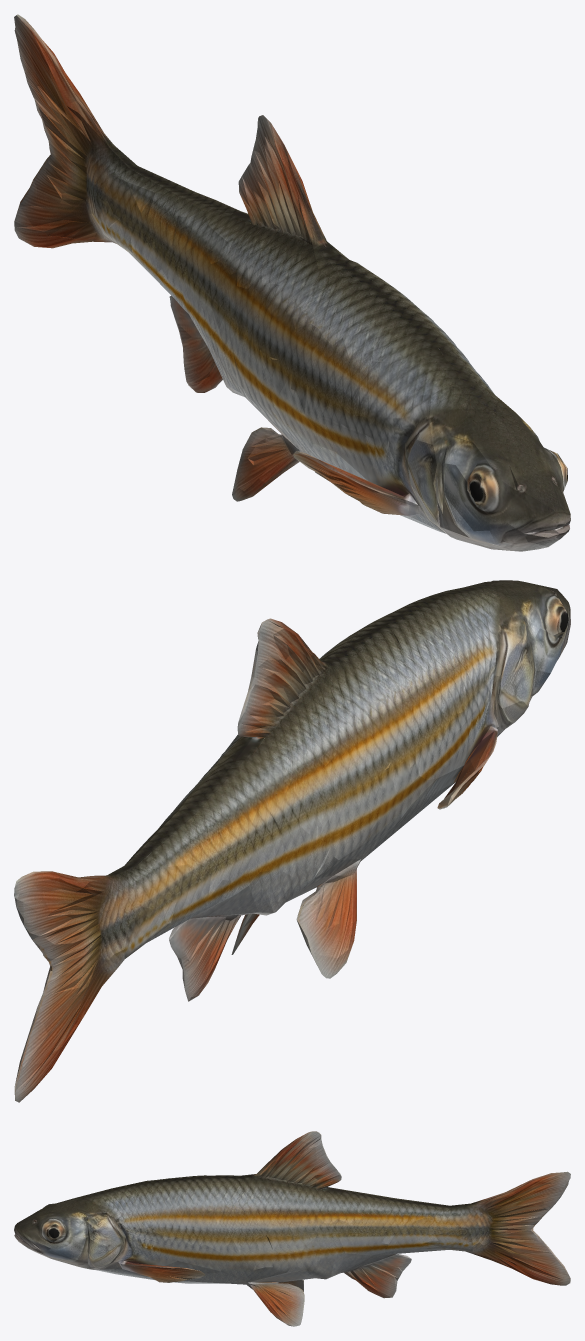
Rendered from Meshy_AI_A_single_realistic_Pa_1117030157_texture.glb.
3 views of the same model, one above another, from view 1: azimuth 30°, elevation 25°; view 2: azimuth 150°, elevation 25°; view 3: azimuth 270°, elevation 25° (orthographic). The views are drawn at different scales.
Visible parts, largest first — view 1: output_unwrapped; view 2: output_unwrapped; view 3: output_unwrapped.
Boxes of the visible parts, x1,y1,x2,y2 form: output_unwrapped: (14,14,570,551); output_unwrapped: (14,580,570,1102); output_unwrapped: (14,1131,570,1326).
Size of the model in its own units: 0.3232 by 0.691 by 1.9.
Materials: 1 (1 with a texture image).
